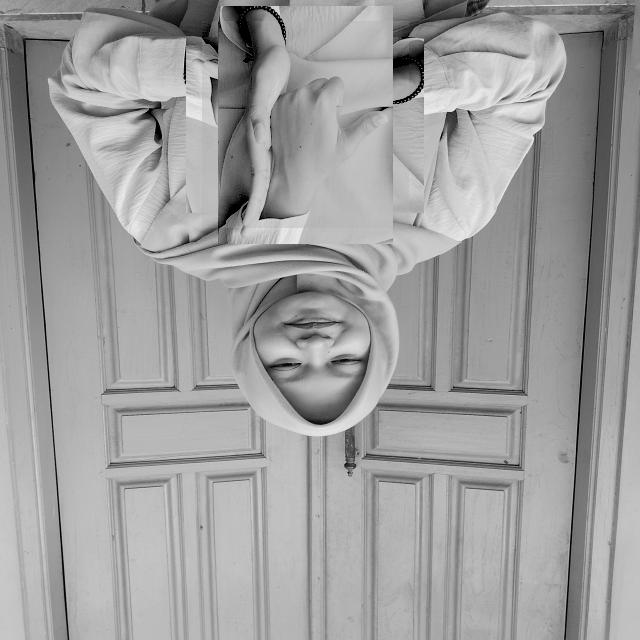cantik: (202, 21, 409, 228)
